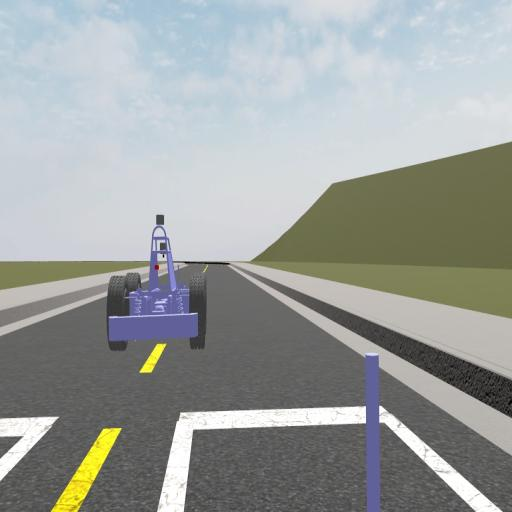ERP-42: (108, 215, 207, 351)
